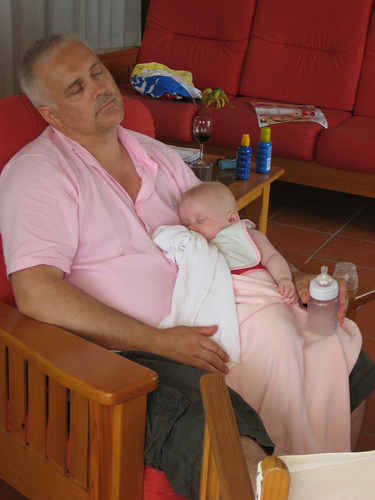without_mask: (34, 41, 134, 148), (176, 183, 241, 251)
